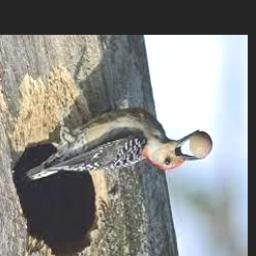Woodpecker: (26, 107, 205, 182)
